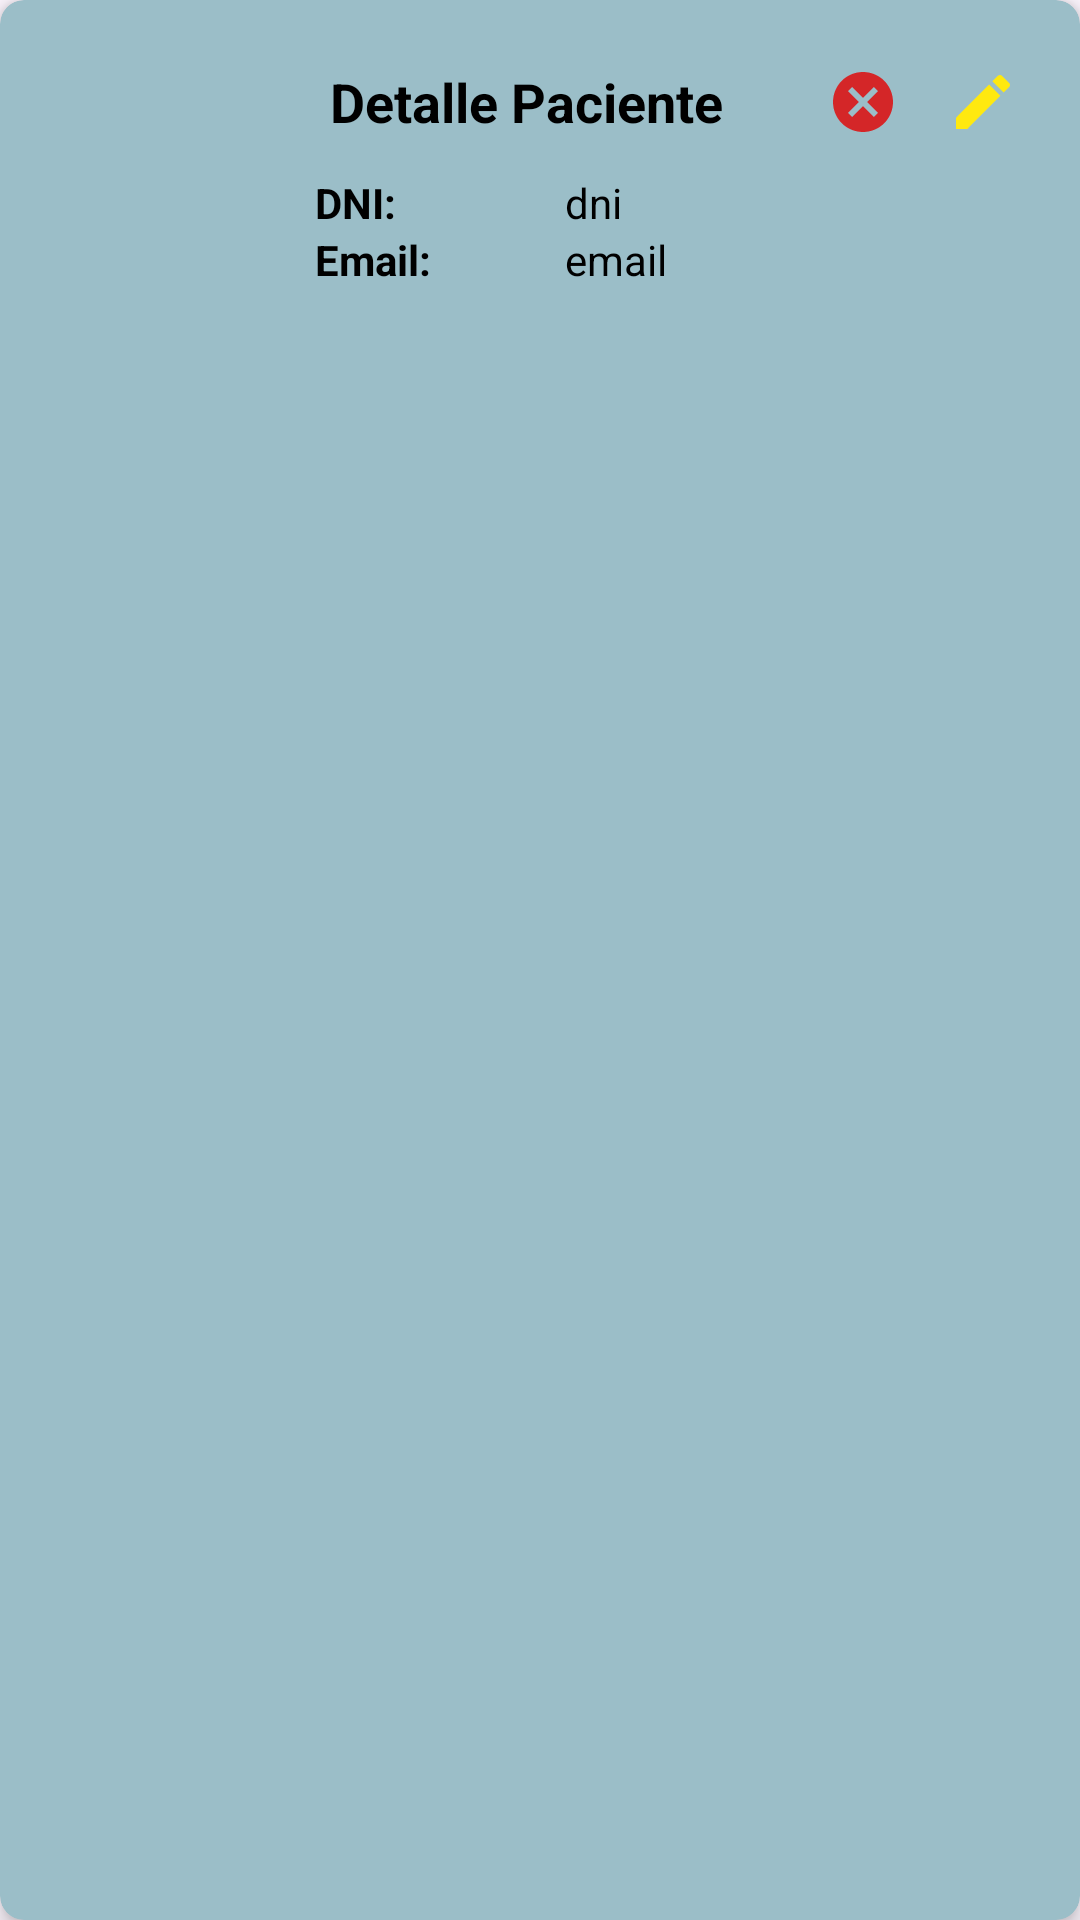

Locate icon controls on the screen. Image size 1080px x 1920px, boxes as box(x1, y1, x2, y2).
cancel: box(833, 72, 893, 132)
edit: box(956, 75, 1010, 129)
